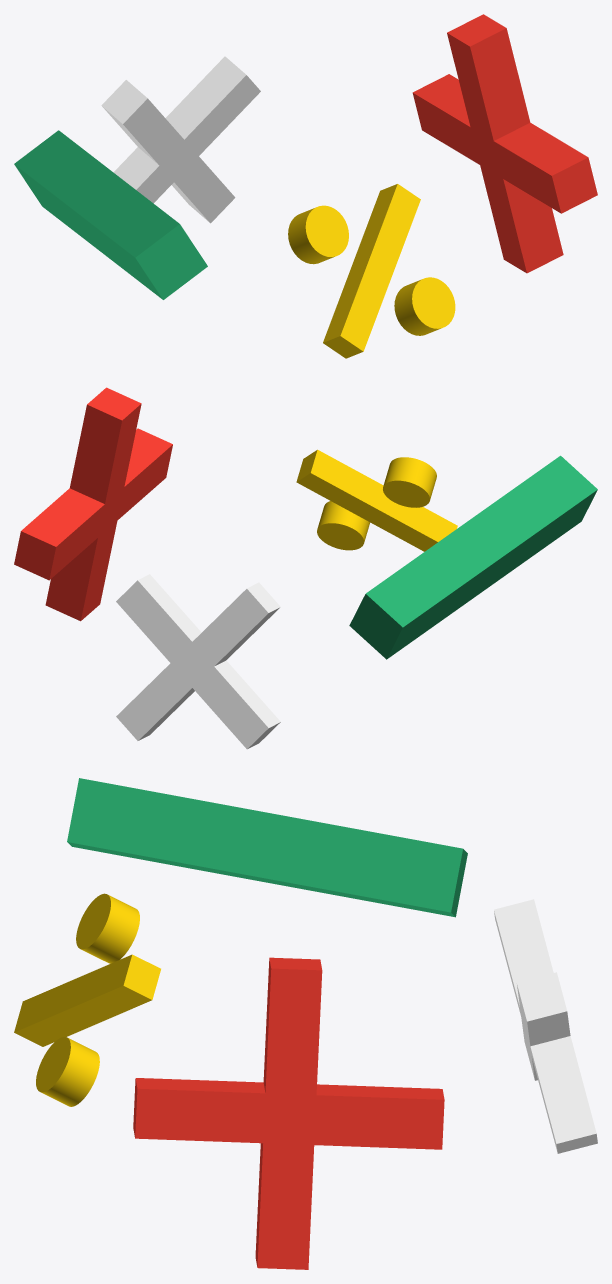
Rendered from signosMatematicos.glb.
3 renders of one model, top to bottom at view 1: azimuth 30°, elevation 25°; view 2: azimuth 150°, elevation 25°; view 3: azimuth 270°, elevation 25°, orthographic. The views are drawn at different scales.
Visible parts, largest first — view 1: Suma.001, Resta.001, multiplicacion.001, Cube.001, Division.002, Cylinder.001; view 2: Resta.001, Suma.001, multiplicacion.001, Cube.001, Cylinder.001, Division.002; view 3: Suma.001, Resta.001, multiplicacion.001, Cube.001, Division.002, Cylinder.001.
Boxes of the visible parts, x1,y1,x2,y2 form: Suma.001: [412, 14, 597, 273]; Resta.001: [14, 130, 207, 299]; multiplicacion.001: [101, 56, 260, 223]; Cube.001: [323, 184, 420, 358]; Division.002: [394, 277, 455, 335]; Cylinder.001: [288, 205, 348, 264]; Resta.001: [349, 455, 597, 659]; Suma.001: [14, 387, 172, 621]; multiplicacion.001: [116, 574, 280, 749]; Cube.001: [296, 449, 457, 551]; Cylinder.001: [383, 457, 436, 507]; Division.002: [317, 501, 370, 550]; Suma.001: [133, 957, 444, 1269]; Resta.001: [67, 778, 467, 917]; multiplicacion.001: [494, 899, 597, 1153]; Cube.001: [14, 954, 160, 1046]; Division.002: [36, 1037, 99, 1106]; Cylinder.001: [76, 893, 139, 963].
Bounding box in the file's own units: 24.59 × 11.47 × 21.42.
